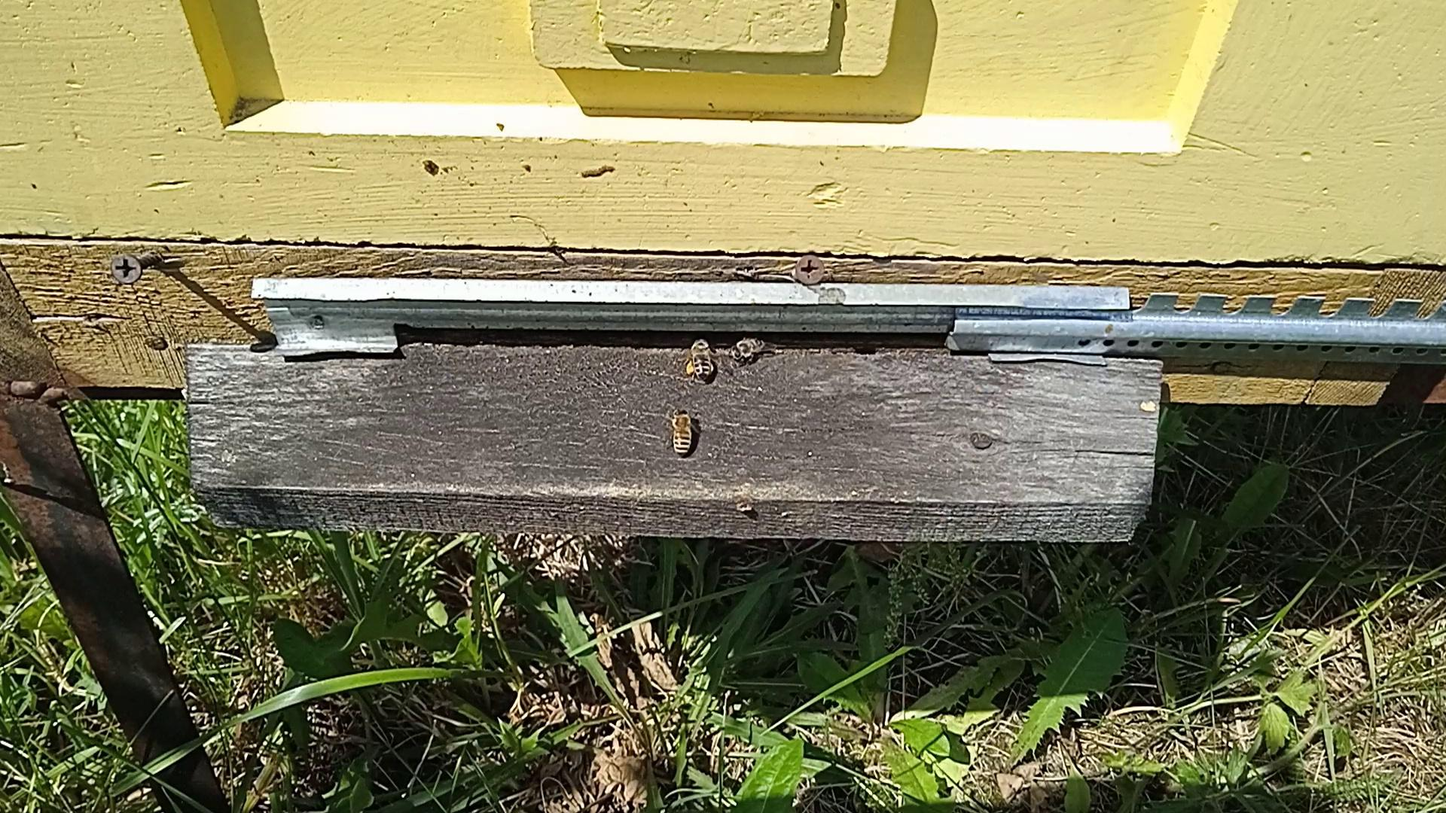worker-bee: (682, 337, 719, 383), (669, 406, 697, 457), (728, 333, 769, 362)
